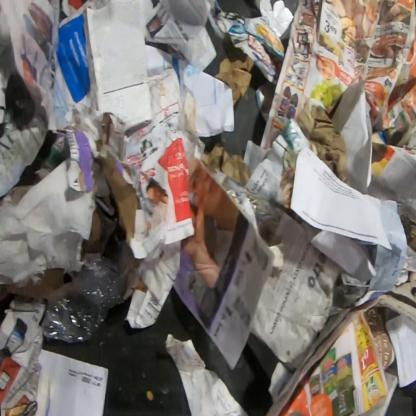cardboard: (296, 98, 350, 186), (98, 158, 140, 245), (200, 141, 250, 188), (0, 267, 65, 303), (213, 54, 254, 107)
rigid_plastic: (40, 254, 121, 343)
